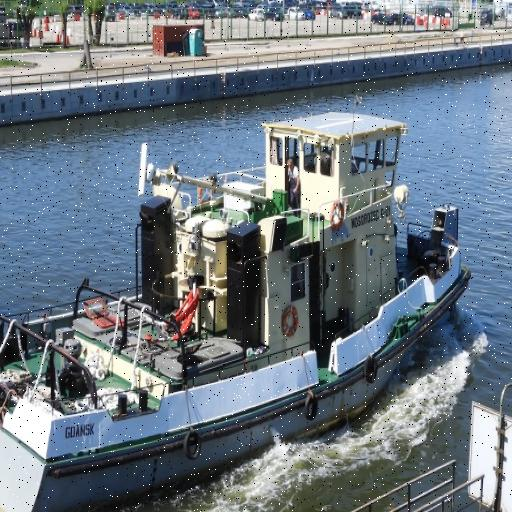tugboat: (1, 90, 476, 512)
